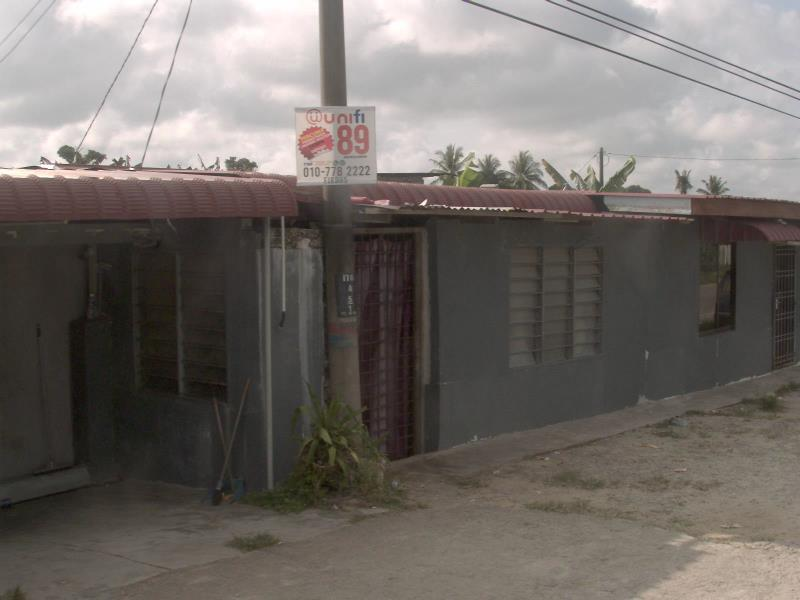ads_sign: (286, 96, 381, 196)
